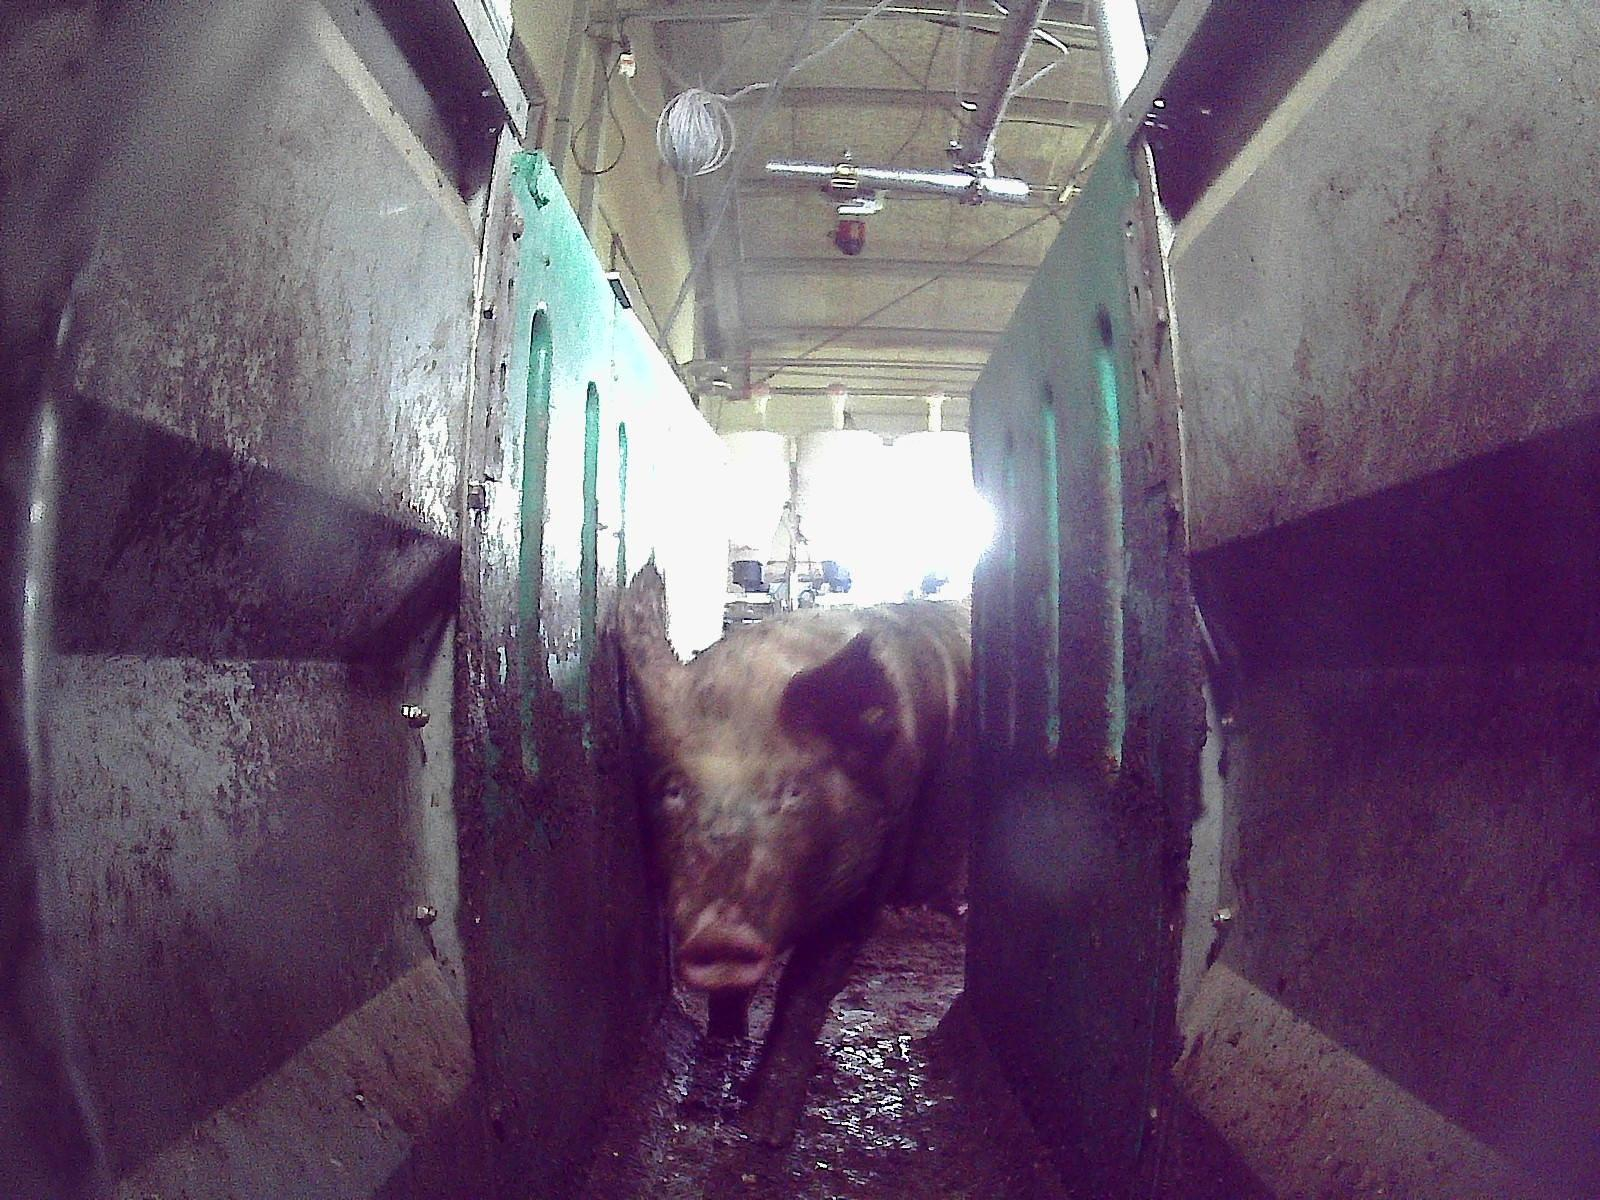Face: (634, 688, 860, 987)
